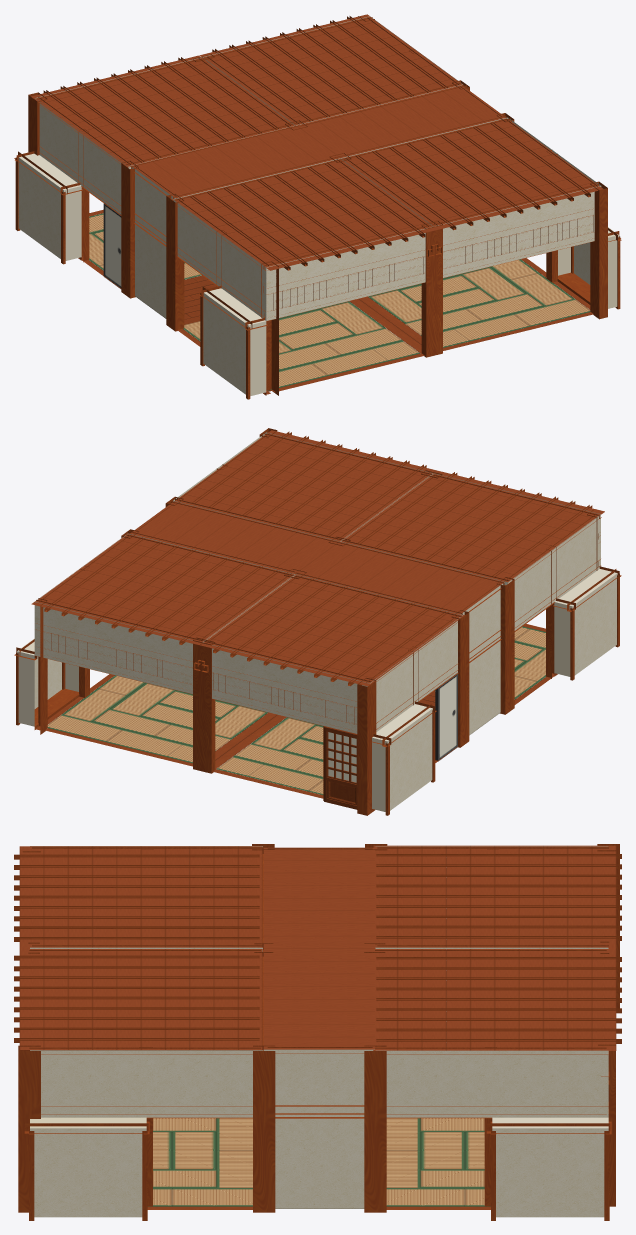
The model's file is MAP2.fbx.
3 views of the same model, one above another, from view 1: azimuth 30°, elevation 25°; view 2: azimuth 150°, elevation 25°; view 3: azimuth 270°, elevation 25° (orthographic). The views are drawn at different scales.
Parts seen in each view (by area): view 1: kabe04, tenjyou_ita03, tenjyou_ita04, tenjyou_ita01, tenjyou_ita02, rouka_tenjyou, kabe03, kabe01, tatami03_01, tatami01 (×2), hasira_tate04, rouka_kabe1 (+16 smaller); view 2: kabe01, tatami01 (×3), tenjyou_ita03, tenjyou_ita01, tenjyou_ita02, tenjyou_ita04, rouka_tenjyou, kabe02, kabe04, hasira_tate01, rouka_kabe1, hasira_tate04 (+15 smaller); view 3: kabe02, kabe03, tenjyou_ita03, tenjyou_ita01, tenjyou_ita02, tenjyou_ita04, rouka_tenjyou, rouka_kabe1, tatami03_01, tatami01, hasira_tate03, tenjyou03 (+14 smaller).
Part boxes in pixels (<box>): kabe04: <box>173,158,432,395</box>; tenjyou_ita03: <box>339,118,603,229</box>; tenjyou_ita04: <box>173,159,437,270</box>; tenjyou_ita01: <box>31,55,294,167</box>; tenjyou_ita02: <box>199,14,464,125</box>; rouka_tenjyou: <box>131,85,506,198</box>; kabe03: <box>341,117,618,308</box>; kabe01: <box>18,57,294,260</box>; tatami03_01: <box>368,259,590,347</box>; tatami01 (×2): <box>89,213,420,390</box>; hasira_tate04: <box>166,194,442,395</box>; rouka_kabe1: <box>131,118,503,318</box>; kabe01: <box>203,574,462,811</box>; tatami01 (×3): <box>47,626,545,794</box>; tenjyou_ita03: <box>175,430,439,541</box>; tenjyou_ita01: <box>200,575,464,686</box>; tenjyou_ita02: <box>31,533,295,645</box>; tenjyou_ita04: <box>343,471,604,582</box>; rouka_tenjyou: <box>130,501,504,614</box>; kabe02: <box>17,533,294,729</box>; kabe04: <box>341,473,617,676</box>; hasira_tate01: <box>193,610,469,815</box>; rouka_kabe1: <box>130,534,504,735</box>; hasira_tate04: <box>421,470,597,714</box>; kabe02: <box>375,948,608,1217</box>; kabe03: <box>30,948,262,1217</box>; tenjyou_ita03: <box>19,947,262,1049</box>; tenjyou_ita01: <box>373,845,616,948</box>; tenjyou_ita02: <box>373,948,616,1050</box>; tenjyou_ita04: <box>19,846,262,947</box>; rouka_tenjyou: <box>263,847,374,1049</box>; rouka_kabe1: <box>263,1049,374,1208</box>; tatami03_01: <box>148,1118,252,1206</box>; tatami01: <box>386,1118,490,1206</box>; hasira_tate03: <box>18,1045,275,1220</box>; tenjyou03: <box>14,955,259,1042</box>.
Size of the model in its own units: 1076 by 356 by 1209.
